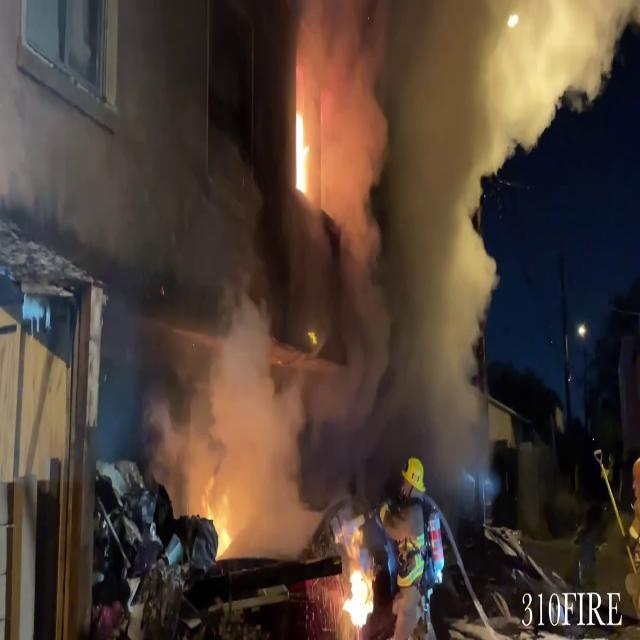Fire: (332, 542, 380, 637), (288, 106, 316, 205)
Smoke: (332, 0, 574, 465), (130, 280, 322, 525)
